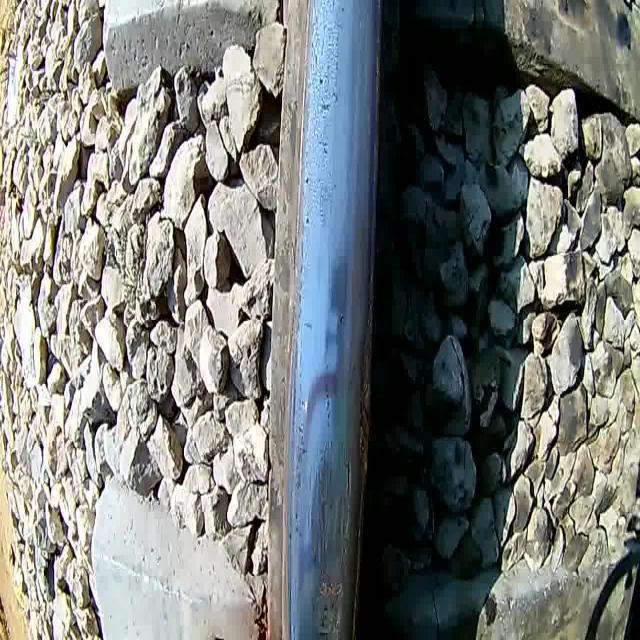Cracks: (338, 443, 354, 572)
Squats: (305, 428, 358, 640)
